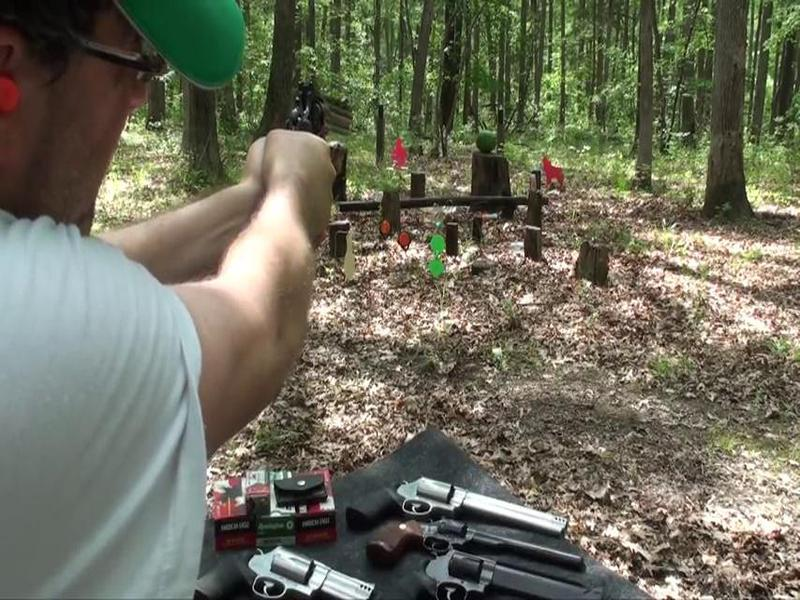Revolver: (271, 76, 367, 177)
